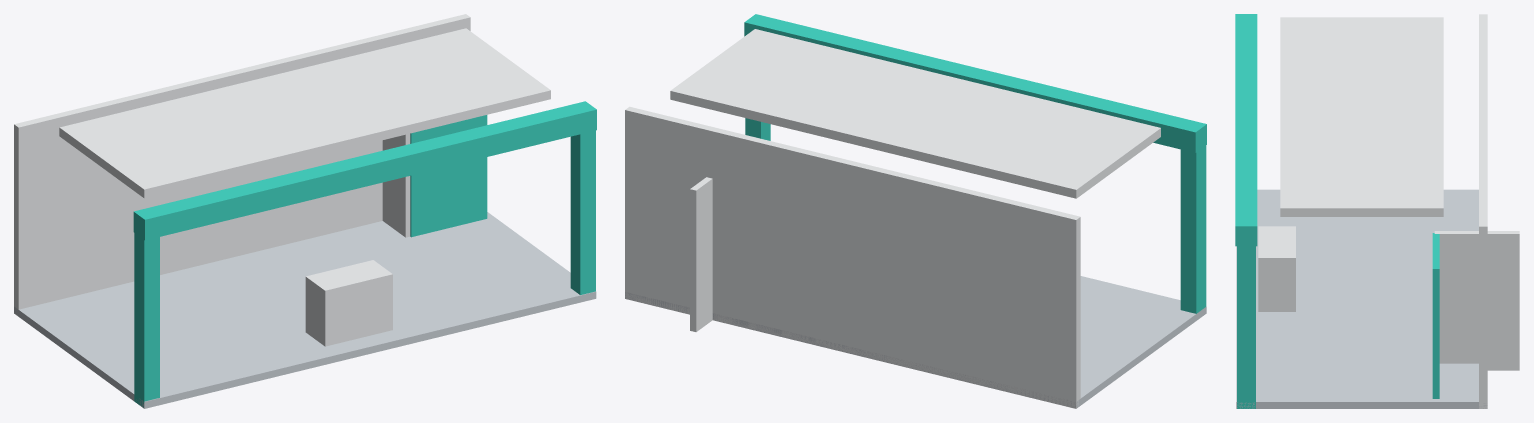
3 renders of one model, left to right at view 1: azimuth 30°, elevation 25°; view 2: azimuth 150°, elevation 25°; view 3: azimuth 270°, elevation 25°, orthographic. The views are drawn at different scales.
Visible parts, largest first — view 1: Exhibition Booth Concept; view 2: Exhibition Booth Concept; view 3: Exhibition Booth Concept.
Boxes of the visible parts, bbox=[...] form: Exhibition Booth Concept: bbox=[14, 14, 596, 408]; Exhibition Booth Concept: bbox=[625, 14, 1206, 408]; Exhibition Booth Concept: bbox=[1235, 14, 1519, 408].
Bounding box in the file's own units: 8 × 3.34 × 4.52.
